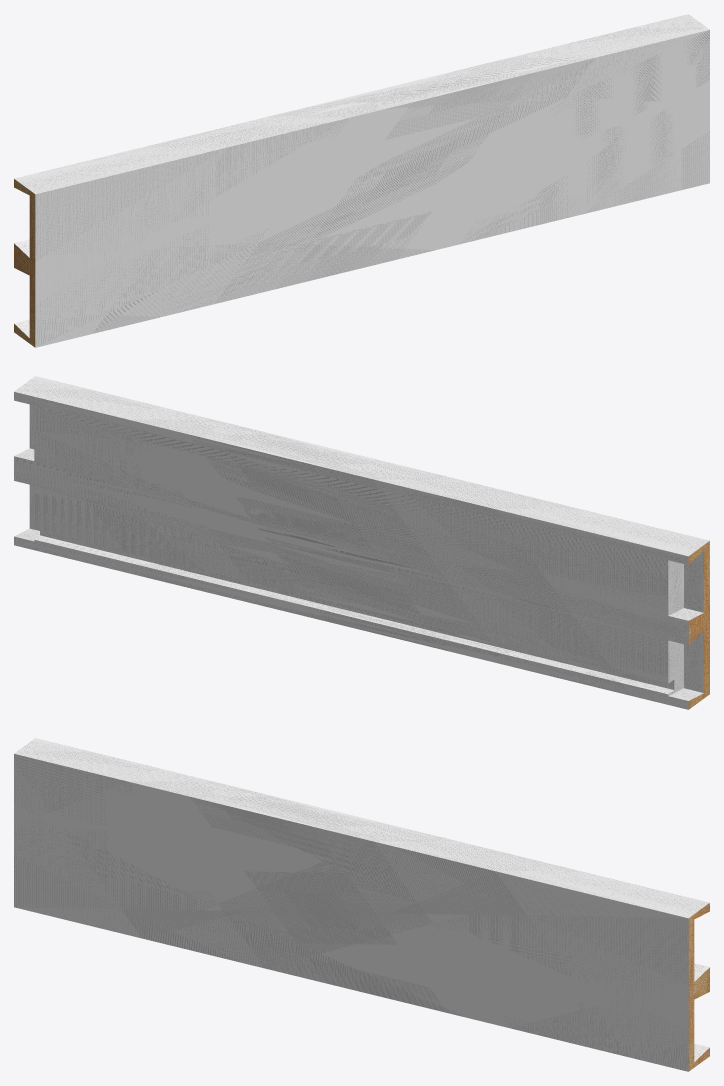
The model's file is original-36.obj.
The picture shows the model from 3 angles, top to bottom: view 1: azimuth 30°, elevation 25°; view 2: azimuth 150°, elevation 25°; view 3: azimuth 330°, elevation 25°; orthographic projection.
Parts seen in each view (by area): view 1: Drawer_Front1/Drawer_Front/mesh17/mesh17-geometry#mesh17-geometr; view 2: Drawer_Front1/Drawer_Front/mesh17/mesh17-geometry#mesh17-geometr; view 3: Drawer_Front1/Drawer_Front/mesh17/mesh17-geometry#mesh17-geometr.
Part boxes in pixels (x1=…): Drawer_Front1/Drawer_Front/mesh17/mesh17-geometry#mesh17-geometr: x1=14, y1=14, x2=709, y2=347; Drawer_Front1/Drawer_Front/mesh17/mesh17-geometry#mesh17-geometr: x1=14, y1=376, x2=709, y2=709; Drawer_Front1/Drawer_Front/mesh17/mesh17-geometry#mesh17-geometr: x1=14, y1=738, x2=709, y2=1071.
Size of the model in its own units: 0.4897 by 0.1065 by 0.0269.
